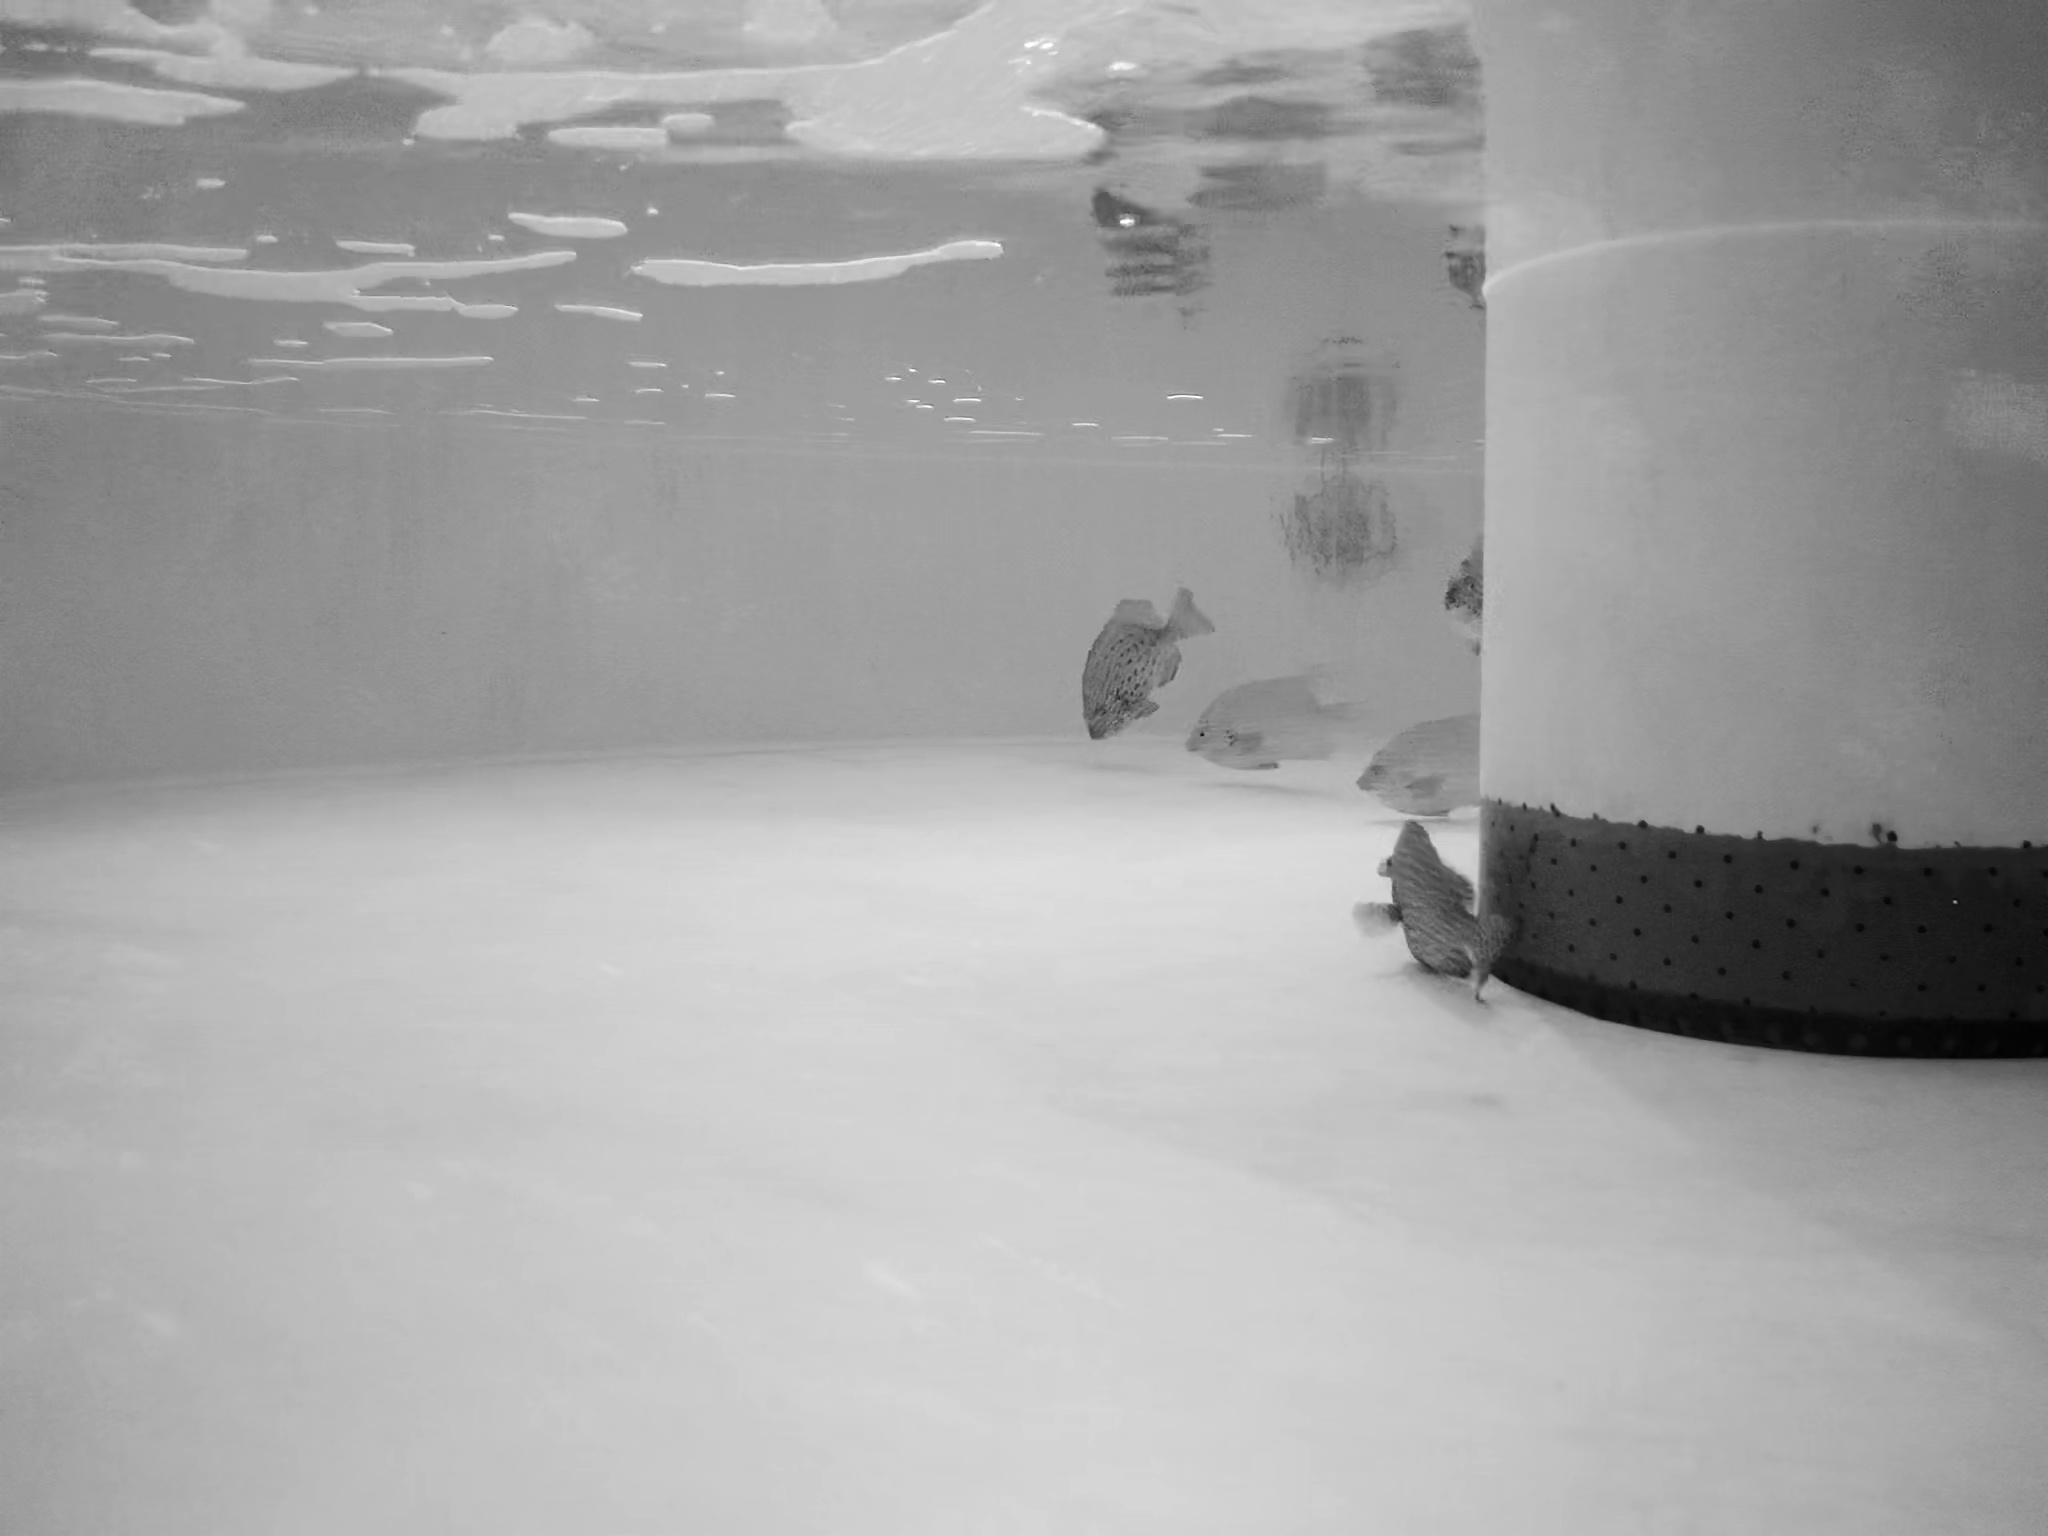fish: (1376, 818, 1509, 991), (1077, 586, 1211, 737), (1180, 658, 1358, 766), (1356, 721, 1492, 815), (1450, 520, 1490, 649)
